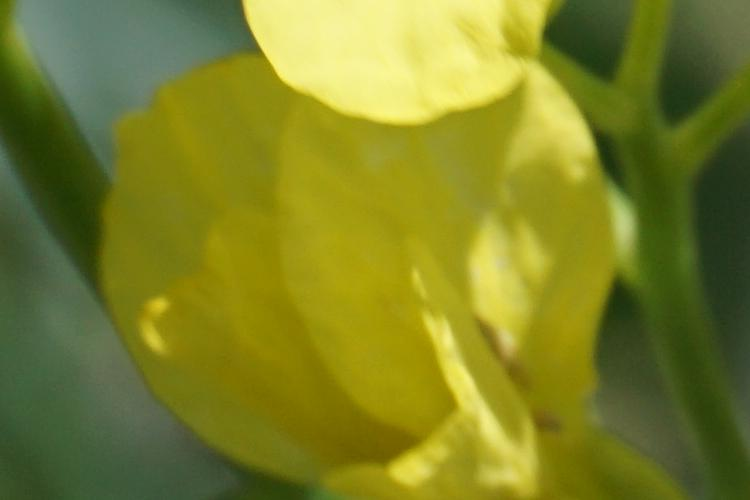yellow: (115, 75, 639, 485), (249, 8, 544, 110)
